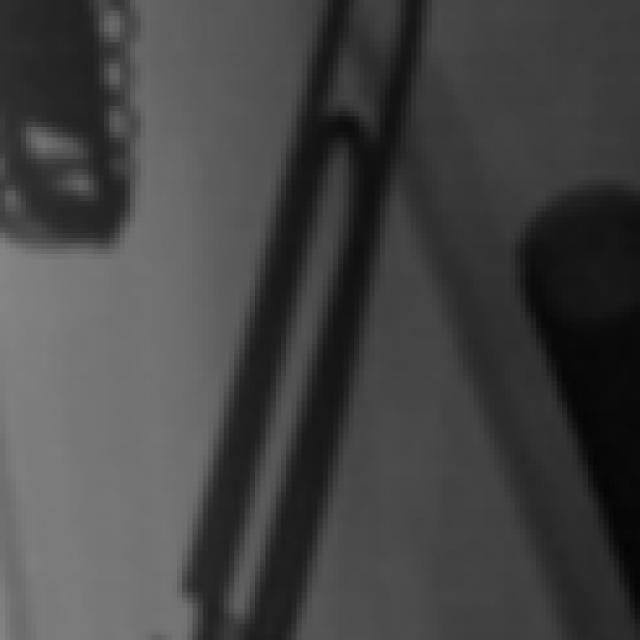GUN: (1, 1, 156, 253)
